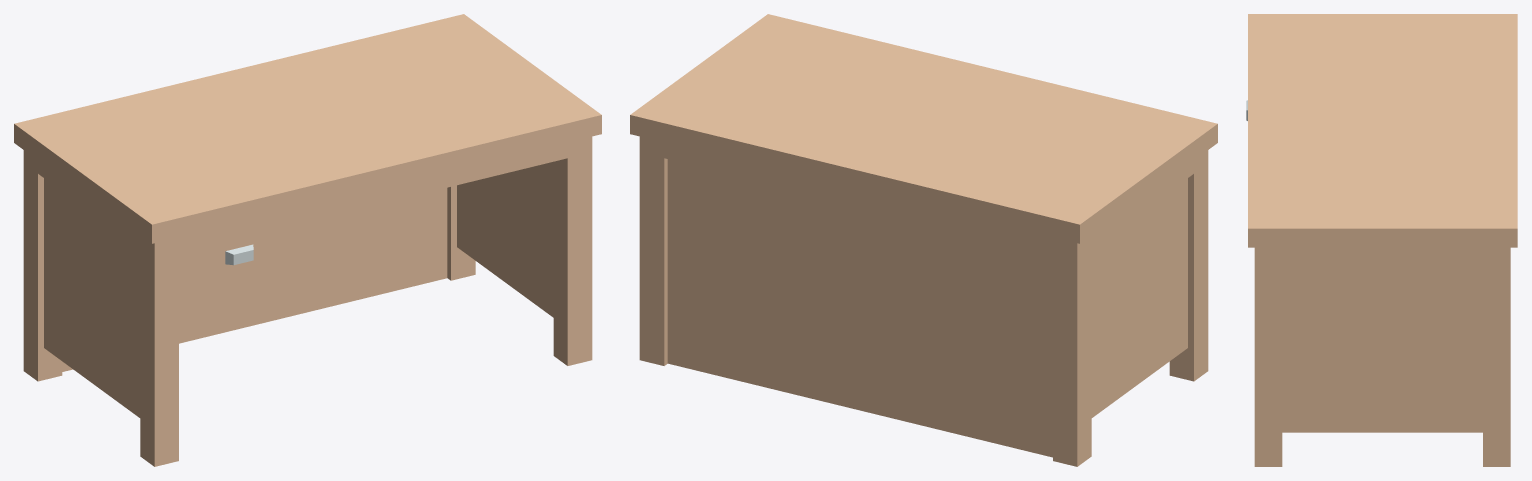
File: desk.glb
3 renders of one model, left to right at view 1: azimuth 30°, elevation 25°; view 2: azimuth 150°, elevation 25°; view 3: azimuth 270°, elevation 25°, orthographic. The views are drawn at different scales.
Visible parts, largest first — view 1: desk(Clone), drawer.002; view 2: desk(Clone); view 3: desk(Clone).
Boxes of the visible parts, x1=… form: desk(Clone): x1=14, y1=14, x2=601, y2=466; drawer.002: x1=179, y1=223, x2=299, y2=284; desk(Clone): x1=630, y1=14, x2=1217, y2=466; desk(Clone): x1=1248, y1=14, x2=1517, y2=466.
Size of the model in its own units: 1.47 by 0.7688 by 0.7846.
